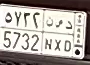2: (31, 12, 41, 52)
3: (21, 12, 31, 51)
5: (2, 12, 13, 49)
7: (12, 11, 22, 49)
D: (64, 20, 73, 52)
N: (44, 17, 54, 50)
X: (54, 19, 64, 51)
